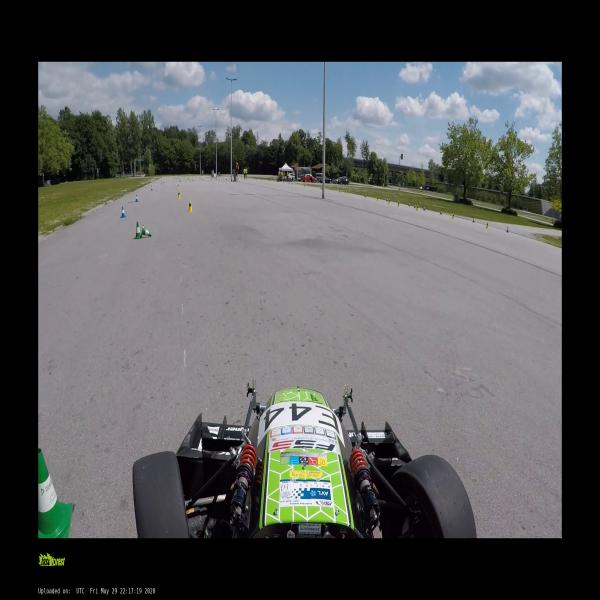blue_cone: (120, 206, 125, 219), (135, 194, 138, 203), (422, 205, 426, 211), (505, 227, 509, 233), (150, 186, 153, 192), (472, 217, 475, 223), (439, 209, 442, 215), (413, 203, 416, 208), (408, 202, 410, 207), (163, 180, 164, 184), (174, 176, 175, 178)
unknown_cone: (38, 446, 73, 538), (134, 222, 142, 240), (142, 224, 152, 236)
yellow_cone: (186, 200, 193, 213), (177, 192, 181, 199), (415, 204, 418, 212), (451, 213, 455, 219), (485, 222, 488, 228), (397, 202, 399, 208), (388, 198, 390, 204), (364, 194, 366, 199), (376, 196, 378, 201), (178, 180, 181, 183), (386, 198, 388, 202), (178, 183, 179, 188)
